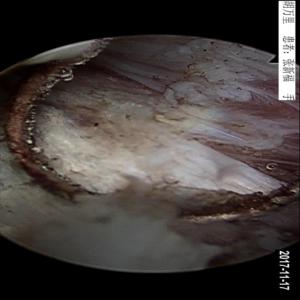film: (96, 47, 299, 186)
